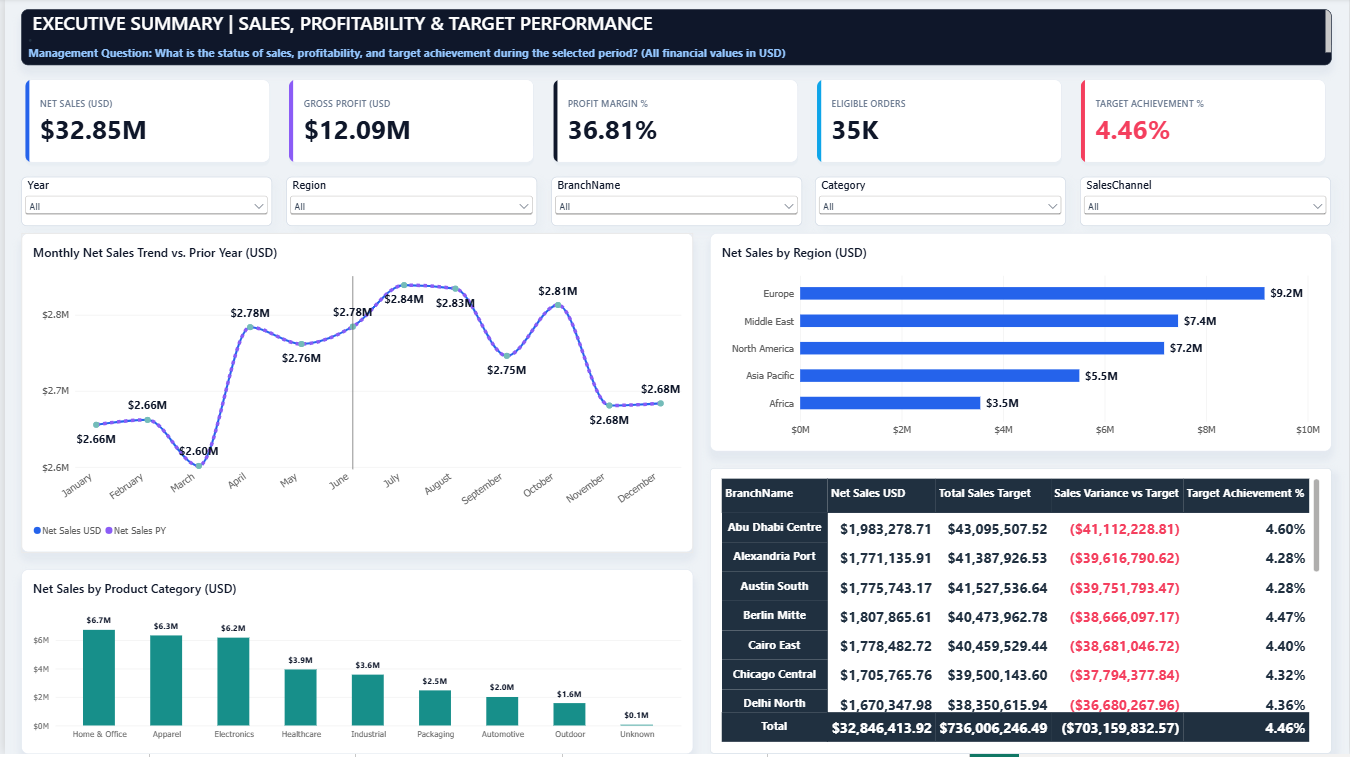

The page's visual inventory and layout, read from the dashboard file:
{"tool":"powerbi","page":{"name":" EXECUTIVE SUMMARY","canvas":[1920,1080],"ordinal":0},"visuals":[{"type":"textbox","box":[24,16,1872,80],"z":0},{"type":"cardVisual","fields":{"Data":["_All Measures.Net Sales USD","_All Measures.Gross Profit USD","_All Measures.Gross Profit Margin %","_All Measures.Eligible Orders","_All Measures.Target Achievement %"]},"box":[24,110,1872,130],"z":1000},{"type":"slicer","fields":{"Values":["Dim_Date.Year"]},"box":[24,256,358,70],"z":2000},{"type":"slicer","fields":{"Values":["Dim_Branches.Region"]},"box":[402,256,358,70],"z":3000},{"type":"slicer","fields":{"Values":["Dim_Branches.BranchName"]},"box":[780,256,358,70],"z":4000},{"type":"slicer","fields":{"Values":["Dim_Products.Category"]},"box":[1158,256,358,70],"z":5000},{"type":"slicer","fields":{"Values":["Fact_Sales.SalesChannel"]},"box":[1536,256,358,70],"z":6000},{"type":"lineChart","title":"Monthly Net Sales Trend vs. Prior Year (USD)","fields":{"Category":["Dim_Date.MonthName"],"Y":["_All Measures.Net Sales USD","_All Measures.Net Sales PY"]},"box":[24,336,960,456],"z":7000},{"type":"clusteredBarChart","title":"Net Sales by Region (USD)","fields":{"Category":["Dim_Branches.Region"],"Y":["_All Measures.Net Sales USD"]},"box":[1008,336,888,312],"z":8000},{"type":"clusteredColumnChart","title":"Net Sales by Product Category (USD)","fields":{"Category":["Dim_Products.Category"],"Y":["_All Measures.Net Sales USD"]},"box":[24,816,960,264],"z":9000},{"type":"pivotTable","title":"Branch Performance & Target Achievement Matrix (USD)","fields":{"Rows":["Dim_Branches.BranchName"],"Values":["_All Measures.Net Sales USD","_All Measures.Total Sales Target","_All Measures.Sales Variance vs Target","_All Measures.Target Achievement %"]},"box":[1008,672,888,408],"z":10000}]}

Visuals, with their boxes in screenshot pixels (x1, y1, x2, y2), scaled from the page's 1920x1080 canvas onto the 1350x757 screenshot:
textbox: box=[17, 11, 1333, 67]
cardVisual - _All Measures.Net Sales USD x _All Measures.Gross Profit USD: box=[17, 77, 1333, 168]
slicer - Dim_Date.Year: box=[17, 179, 269, 229]
slicer - Dim_Branches.Region: box=[283, 179, 534, 229]
slicer - Dim_Branches.BranchName: box=[548, 179, 800, 229]
slicer - Dim_Products.Category: box=[814, 179, 1066, 229]
slicer - Fact_Sales.SalesChannel: box=[1080, 179, 1332, 229]
"Monthly Net Sales Trend vs. Prior Year (USD)" lineChart: box=[17, 236, 692, 555]
"Net Sales by Region (USD)" clusteredBarChart: box=[709, 236, 1333, 454]
"Net Sales by Product Category (USD)" clusteredColumnChart: box=[17, 572, 692, 756]
"Branch Performance & Target Achievement Matrix (USD)" pivotTable: box=[709, 471, 1333, 756]
